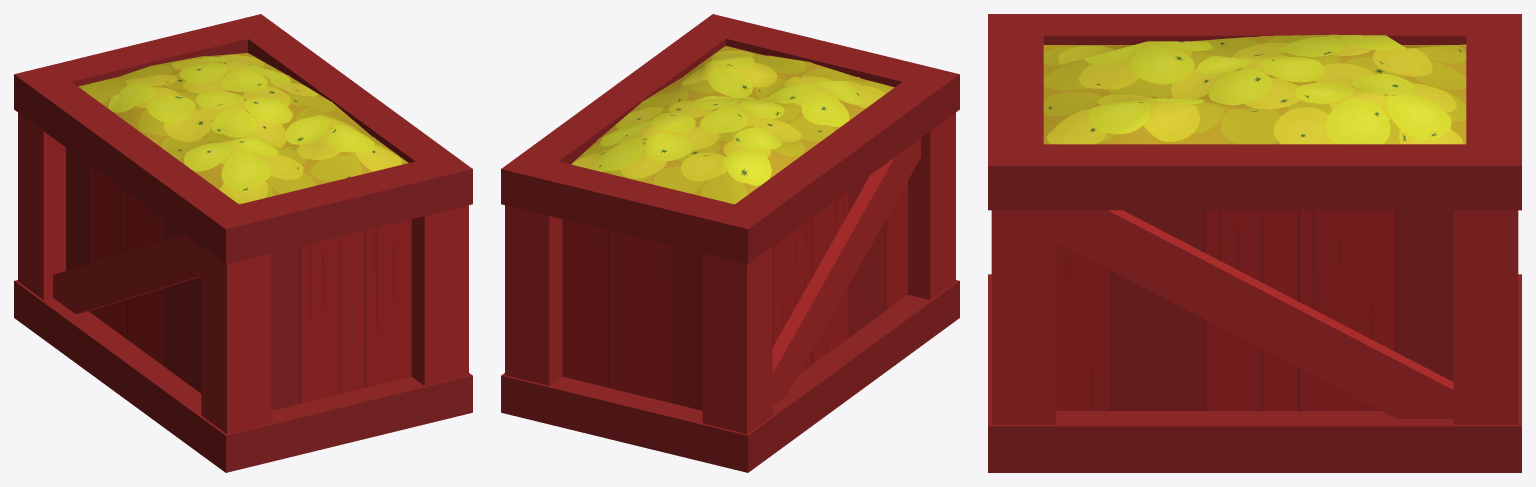
Rendered from Basket 01.fbx.
3 renders of one model, left to right at view 1: azimuth 30°, elevation 25°; view 2: azimuth 150°, elevation 25°; view 3: azimuth 270°, elevation 25°, orthographic. The views are drawn at different scales.
Visible parts, largest first — view 1: Basket_01; view 2: Basket_01; view 3: Basket_01.
Part boxes in pixels (x1=…): Basket_01: x1=14, y1=14, x2=472, y2=472; Basket_01: x1=501, y1=14, x2=959, y2=472; Basket_01: x1=988, y1=14, x2=1521, y2=472.
Size of the model in its own units: 100 by 101 by 149.
